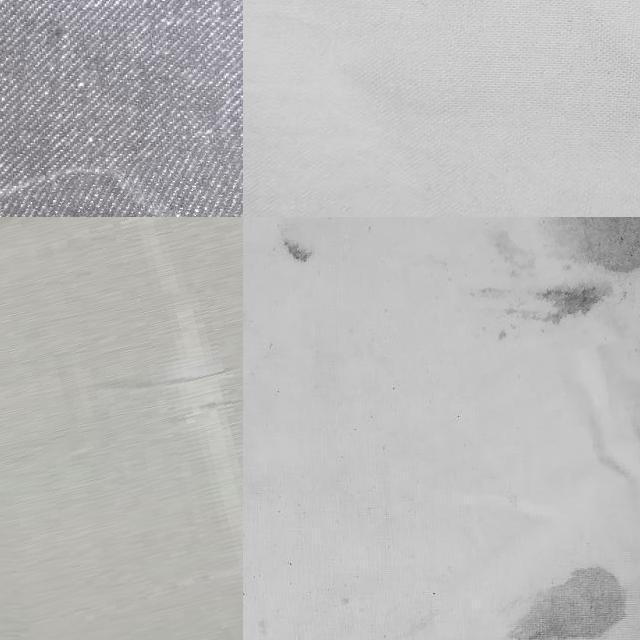Hole: (442, 217, 640, 362), (483, 543, 640, 640), (273, 217, 391, 277)
Thread_other: (0, 217, 243, 640), (0, 163, 243, 217)
